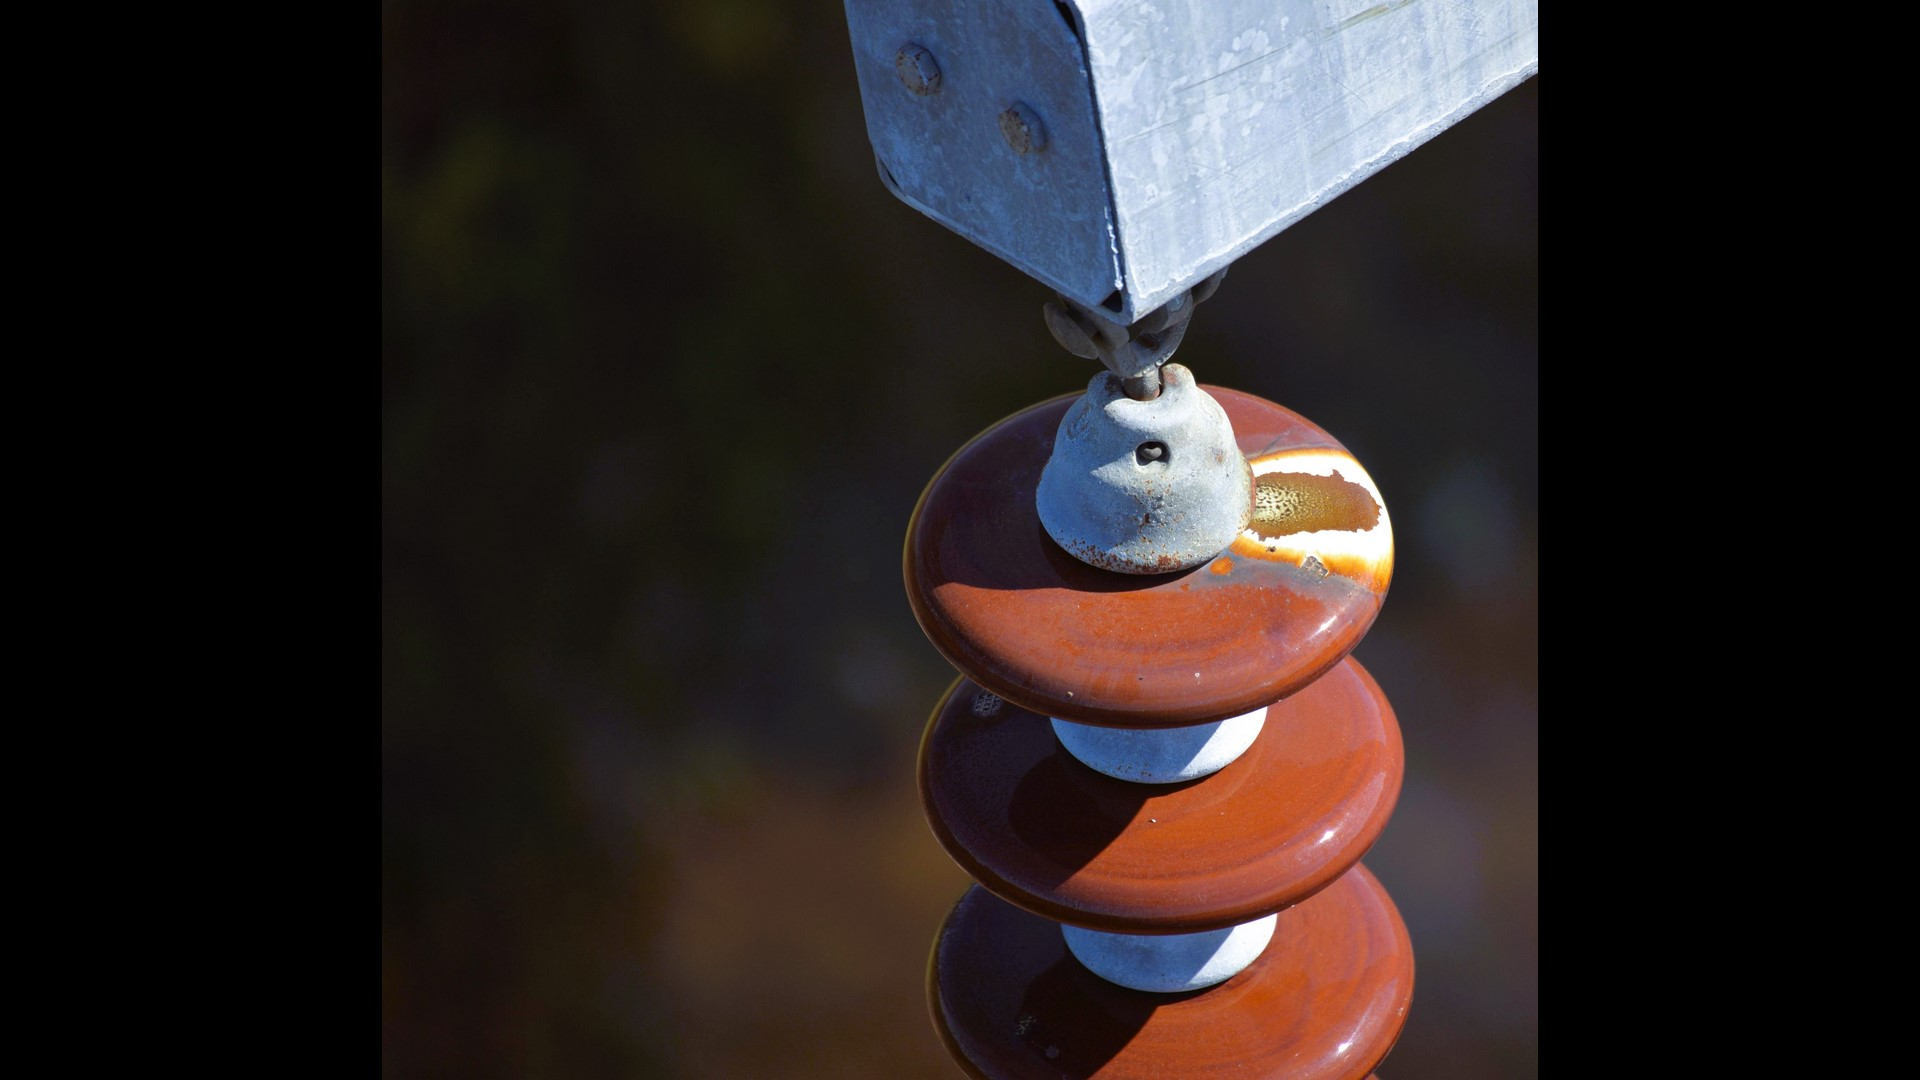Insulator flashover: (886, 359, 1408, 737)
